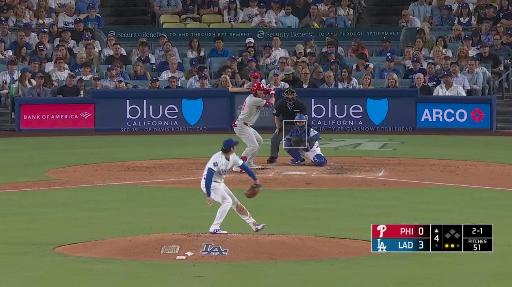pitcher: (201, 138, 268, 235)
